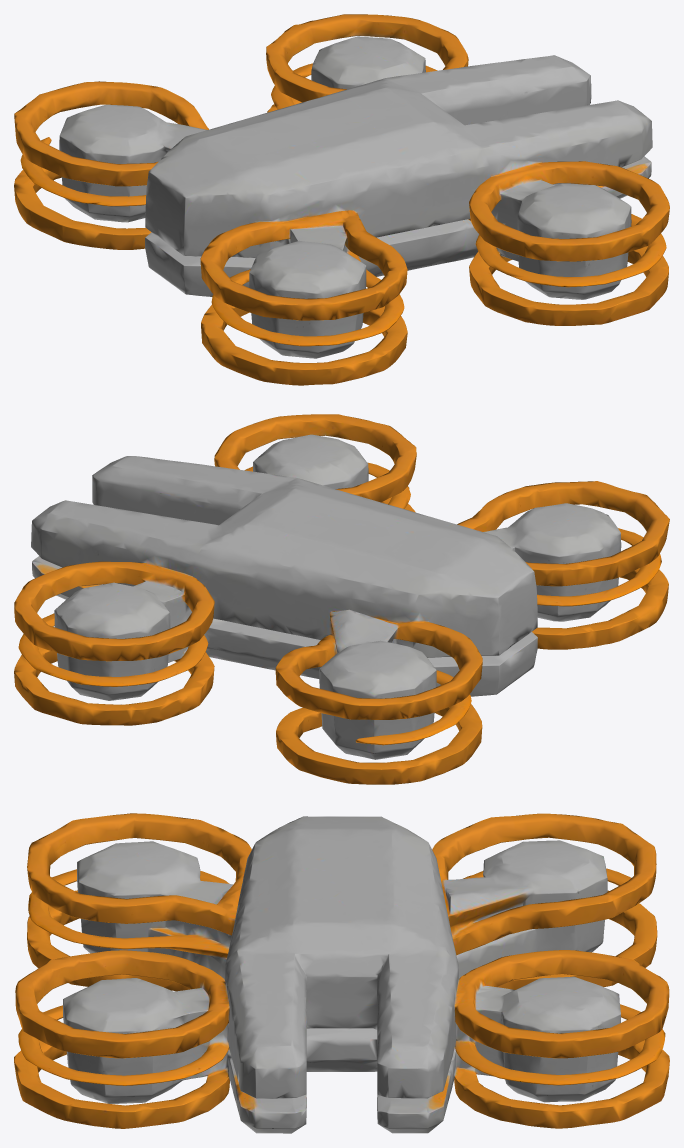
File: flyer.glb
3 views of the same model, one above another, from view 1: azimuth 30°, elevation 25°; view 2: azimuth 150°, elevation 25°; view 3: azimuth 270°, elevation 25° (orthographic). The views are drawn at different scales.
Parts seen in each view (by area): view 1: tripo_node_1ed10df6-2d53-45a2-a3fd-2809833d0e96; view 2: tripo_node_1ed10df6-2d53-45a2-a3fd-2809833d0e96; view 3: tripo_node_1ed10df6-2d53-45a2-a3fd-2809833d0e96.
Part boxes in pixels (x1,y1,x2,y2): tripo_node_1ed10df6-2d53-45a2-a3fd-2809833d0e96: (14,14,669,385); tripo_node_1ed10df6-2d53-45a2-a3fd-2809833d0e96: (14,414,669,784); tripo_node_1ed10df6-2d53-45a2-a3fd-2809833d0e96: (14,813,669,1133).
Size of the model in its own units: 0.7812 by 0.2 by 0.8343.
Materials: 1 (1 with a texture image).
